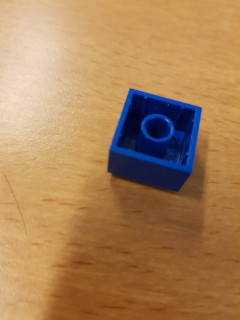2x2 blue: (105, 85, 207, 196)
